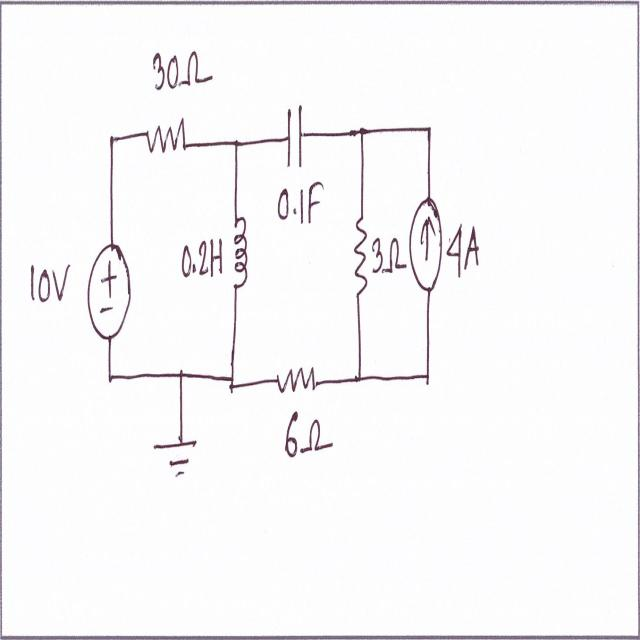capacitor: (284, 96, 305, 174)
current_source: (409, 183, 444, 300)
ground: (149, 430, 201, 488)
inductor: (231, 210, 248, 302)
resistor: (142, 116, 192, 156), (348, 210, 369, 304), (274, 363, 322, 401)
voltage_source: (84, 237, 133, 349)
